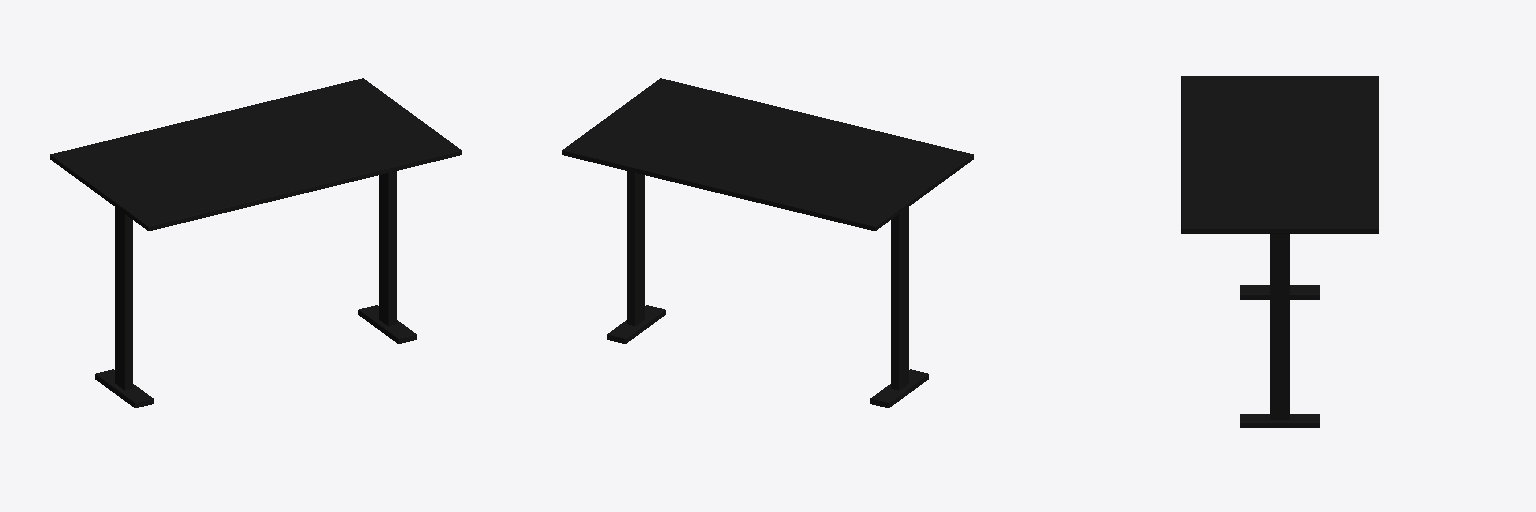
Rendered from StandingDesk1.obj.
The picture shows the model from 3 angles: view 1: azimuth 30°, elevation 25°; view 2: azimuth 150°, elevation 25°; view 3: azimuth 270°, elevation 25°; orthographic projection.
Visible parts, largest first — view 1: StandingDesk1_Cube; view 2: StandingDesk1_Cube; view 3: StandingDesk1_Cube.
Boxes of the visible parts, x1,y1,x2,y2 form: StandingDesk1_Cube: [50, 78, 461, 407]; StandingDesk1_Cube: [562, 78, 973, 407]; StandingDesk1_Cube: [1181, 76, 1378, 427].
Bounding box in the file's own units: 1.48 × 0.9382 × 0.8095.